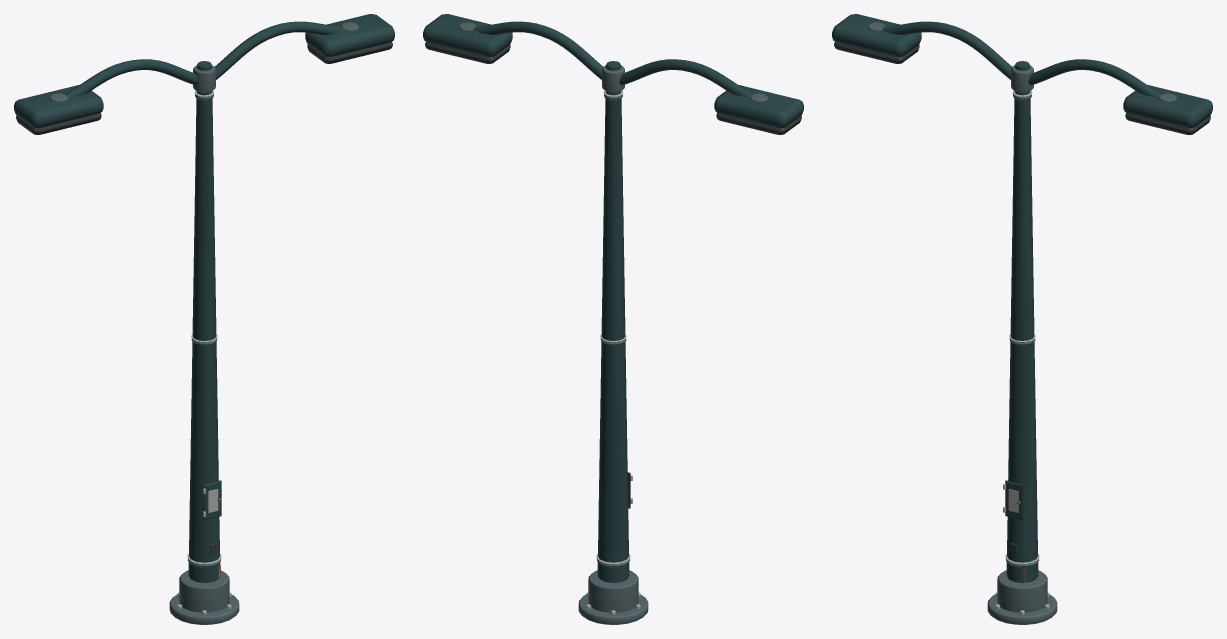
File: A007_harbor_twin_arm_streetlamp.glb
3 views of the same model, side by side, from view 1: azimuth 30°, elevation 25°; view 2: azimuth 150°, elevation 25°; view 3: azimuth 330°, elevation 25° (orthographic).
Visible parts, largest first — view 1: Static SL streetlamp weathered petrol paint.001, Static SL streetlamp dark cast iron.001, Static SL streetlamp rubber seal.001, Static SL streetlamp brushed stainless.001; view 2: Static SL streetlamp weathered petrol paint.001, Static SL streetlamp dark cast iron.001, Static SL streetlamp rubber seal.001; view 3: Static SL streetlamp weathered petrol paint.001, Static SL streetlamp dark cast iron.001, Static SL streetlamp rubber seal.001, Static SL streetlamp brushed stainless.001.
Part boxes in pixels (left/top/right/bottom): Static SL streetlamp weathered petrol paint.001: left=14, top=14, right=394, bottom=582; Static SL streetlamp dark cast iron.001: left=50, top=22, right=358, bottom=624; Static SL streetlamp rubber seal.001: left=16, top=42, right=392, bottom=554; Static SL streetlamp brushed stainless.001: left=34, top=58, right=326, bottom=614; Static SL streetlamp weathered petrol paint.001: left=423, top=14, right=803, bottom=582; Static SL streetlamp dark cast iron.001: left=459, top=22, right=767, bottom=624; Static SL streetlamp rubber seal.001: left=425, top=42, right=801, bottom=508; Static SL streetlamp weathered petrol paint.001: left=832, top=14, right=1212, bottom=582; Static SL streetlamp dark cast iron.001: left=868, top=22, right=1176, bottom=624; Static SL streetlamp rubber seal.001: left=834, top=42, right=1210, bottom=554; Static SL streetlamp brushed stainless.001: left=900, top=58, right=1192, bottom=614.
Bounding box in the file's own units: 3.82 × 5.71 × 0.64.
Materials: 6 (1 with a texture image).
